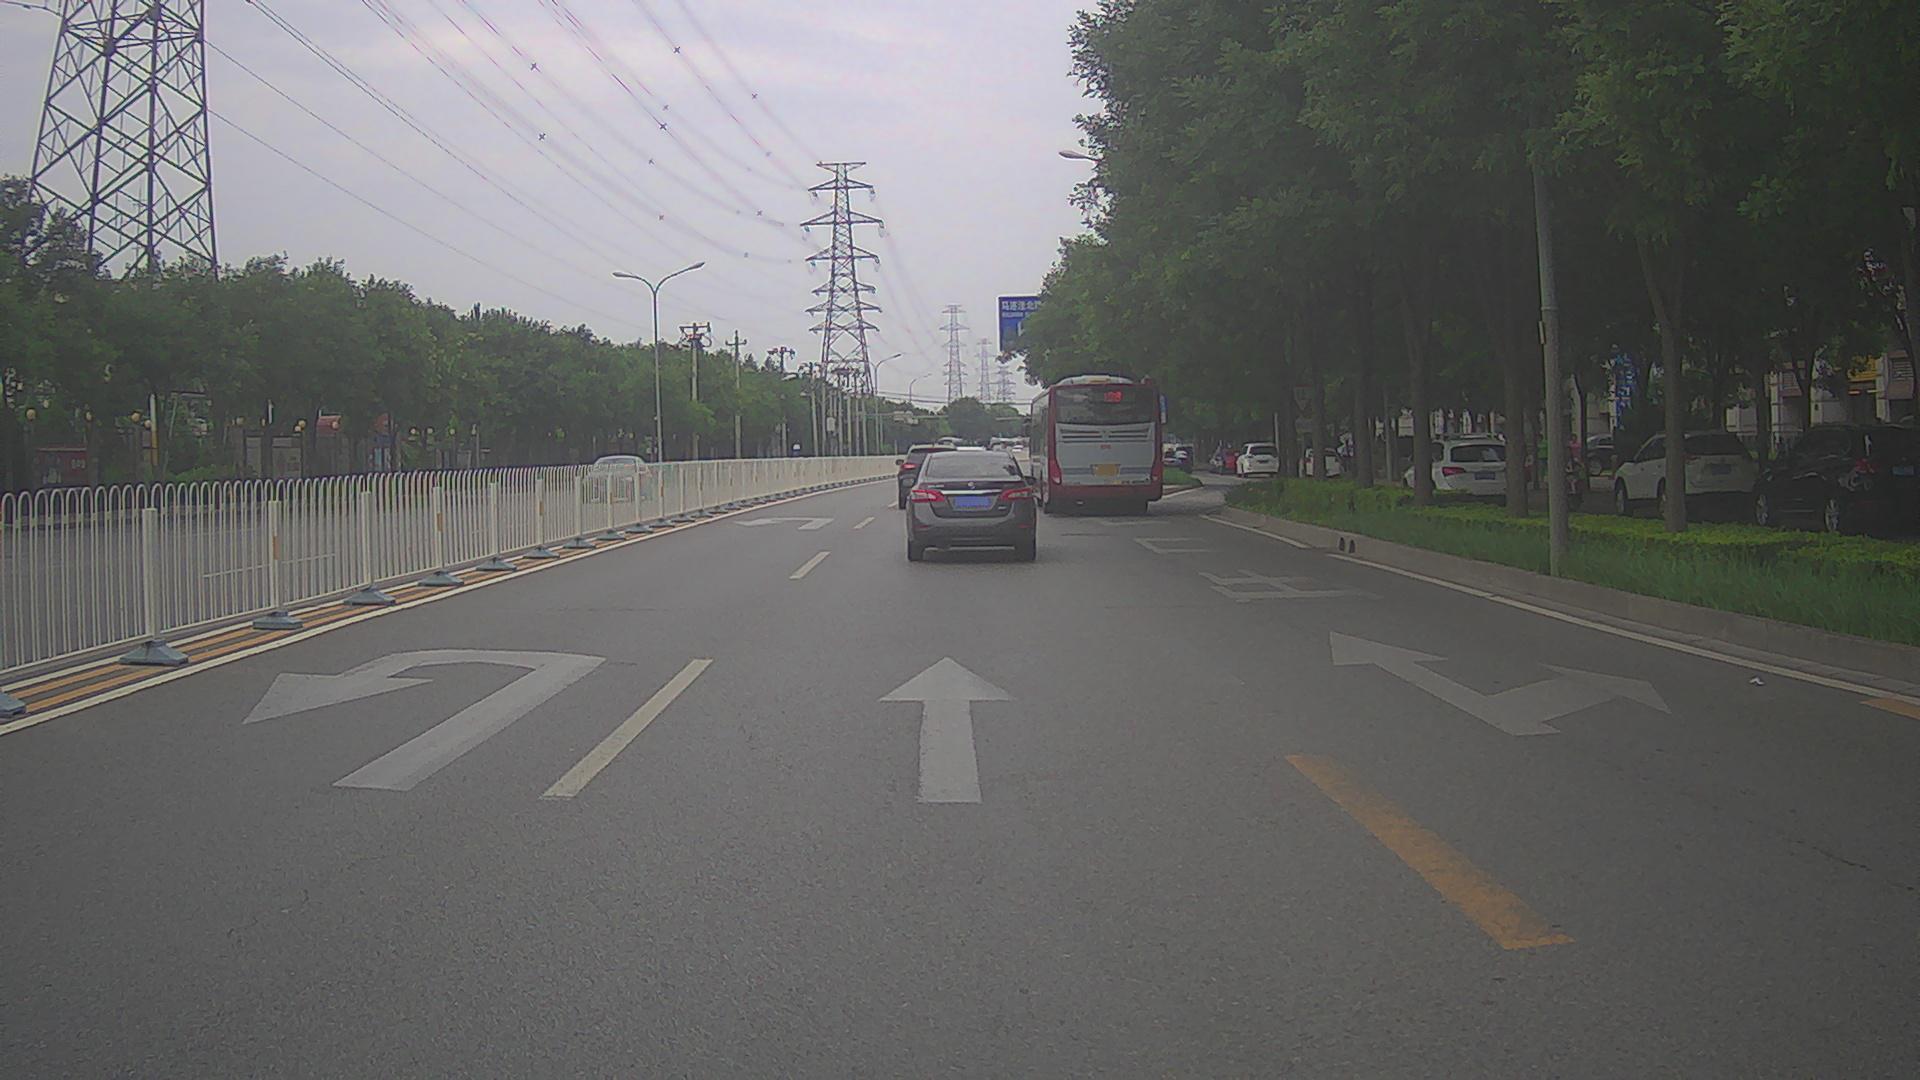bus: (1022, 375, 1163, 515)
car: (1750, 420, 1918, 536), (901, 450, 1037, 561), (1612, 427, 1759, 521), (1399, 436, 1518, 507), (894, 443, 963, 509), (580, 454, 653, 505), (1290, 446, 1341, 480), (1234, 441, 1279, 478), (1208, 448, 1245, 475)
ignore: (938, 435, 1029, 451), (1586, 431, 1615, 477), (1162, 445, 1193, 473)
motorcyclist: (1555, 445, 1586, 511)
pedestrian: (41, 452, 61, 517), (1534, 432, 1550, 479), (1569, 432, 1583, 469)
